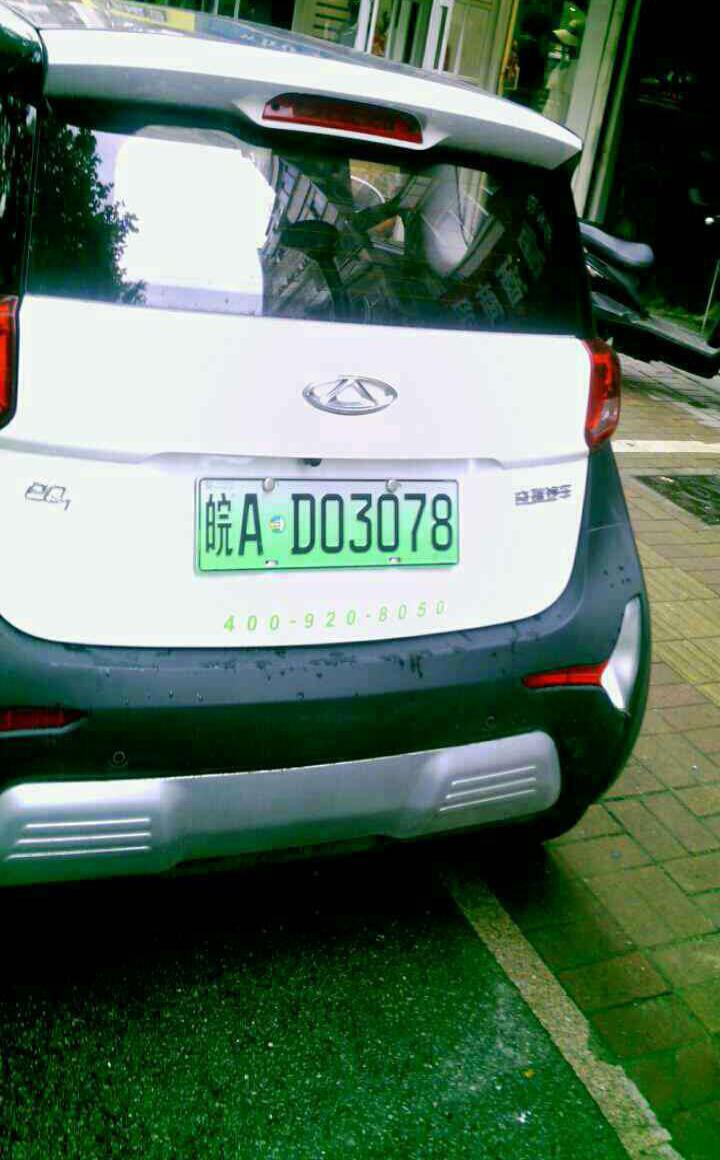car_id: (195, 477, 457, 565)
